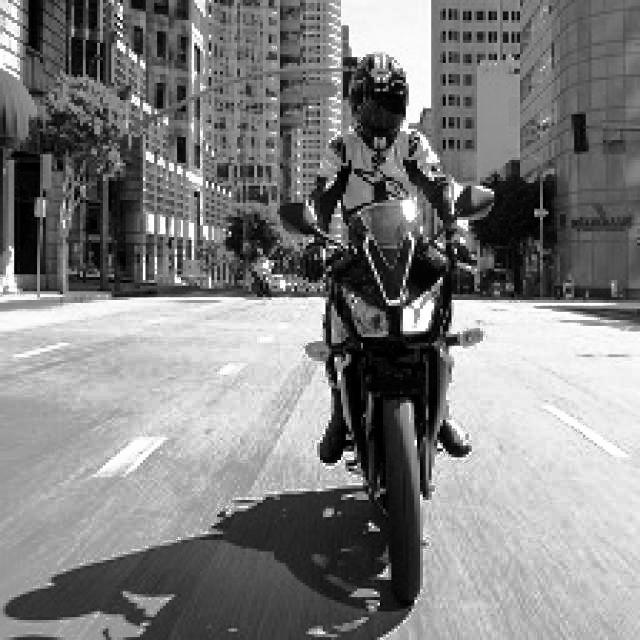Bike: (315, 183, 463, 593)
